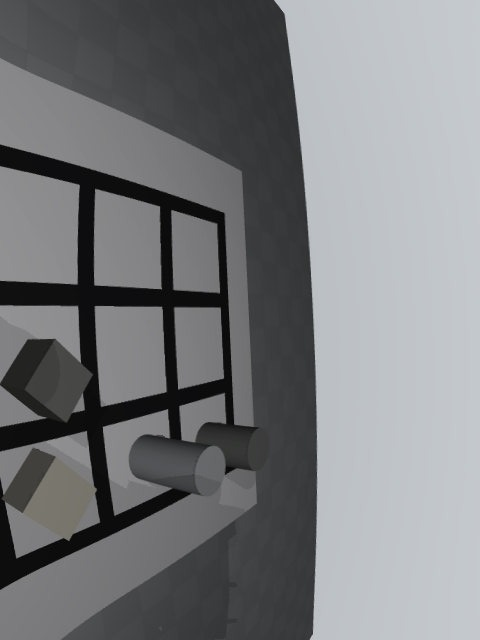can: (128, 434, 226, 496)
cube: (0, 339, 93, 423)
cylinder: (195, 422, 269, 471)
foam: (1, 448, 97, 541)
